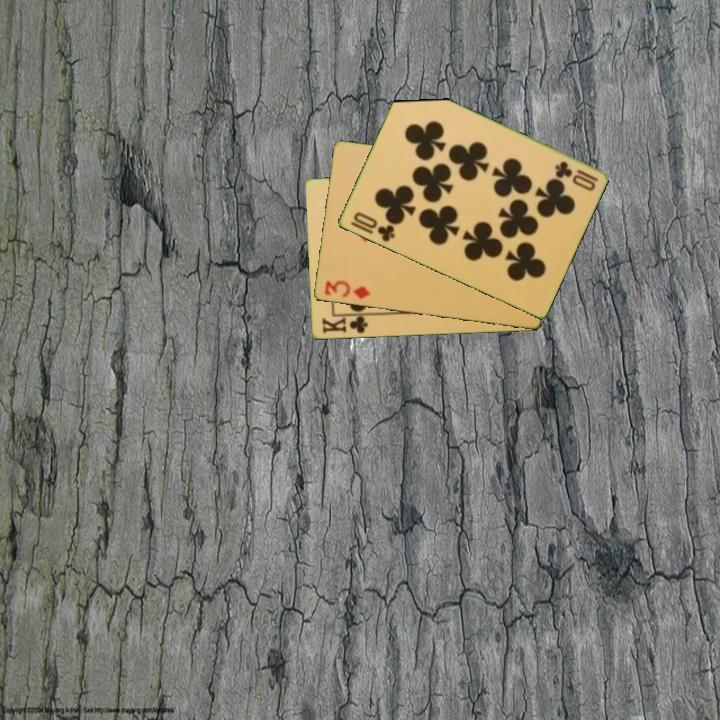10c: (550, 158, 601, 194), (350, 209, 397, 245)
3d: (321, 277, 372, 303)
Kc: (318, 311, 372, 336)
